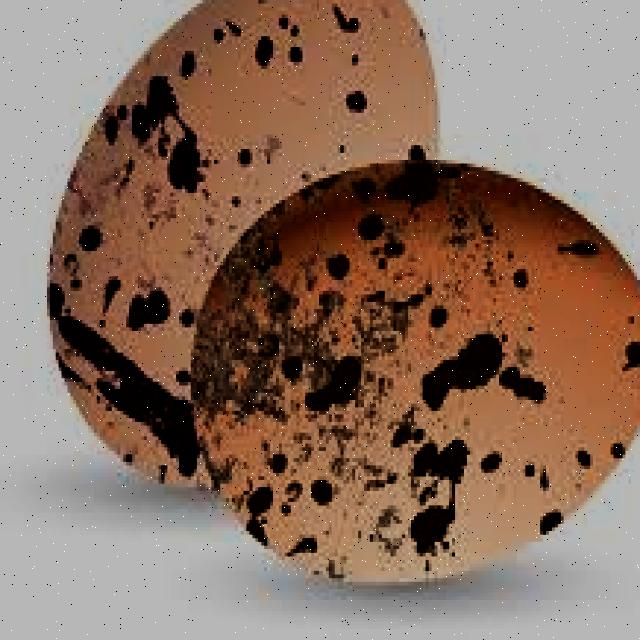Dirt Stained Egg: (29, 0, 432, 480)
